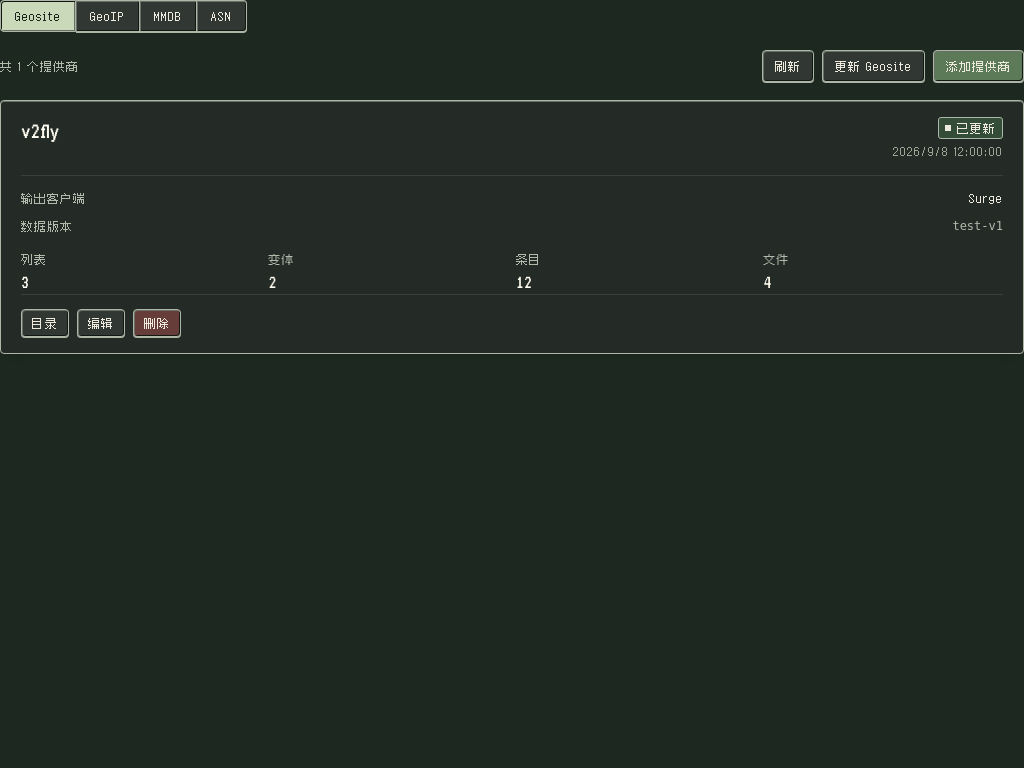
Test: GeoDataView › adds a provider and saves output clients
The image size is (1024, 768).
Click the button "添加提供商". click: (978, 66)
box: [933,50,1023,82]
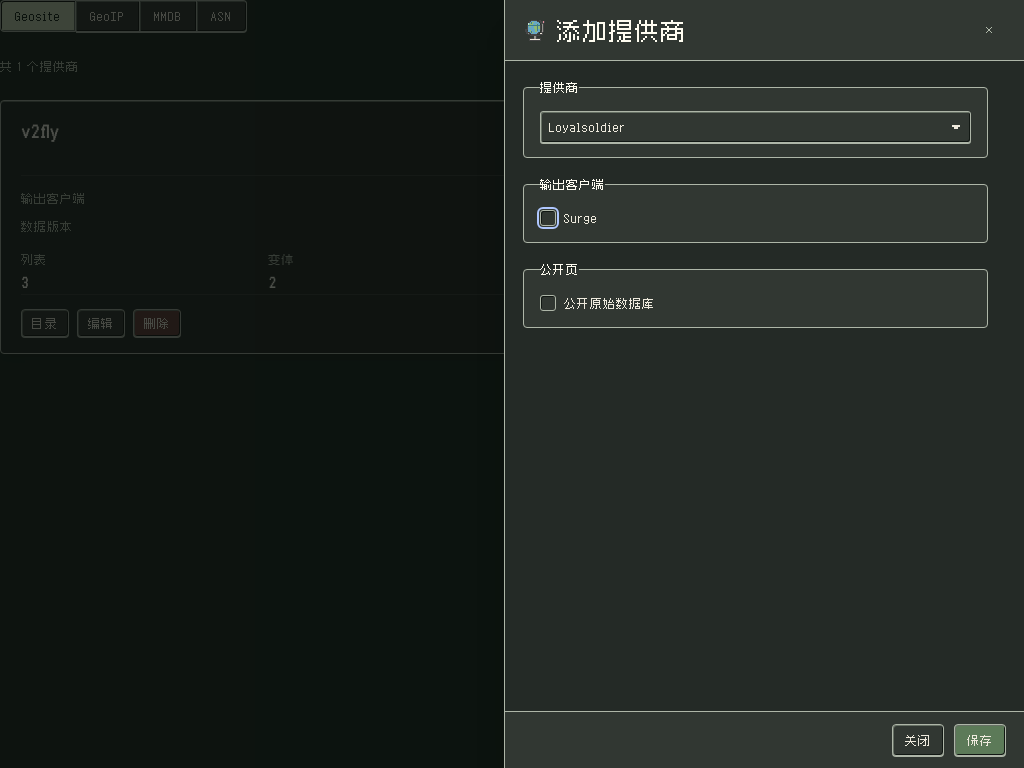
Click the dropdown named "提供商". click: (588, 127)
box: [540,111,971,143]
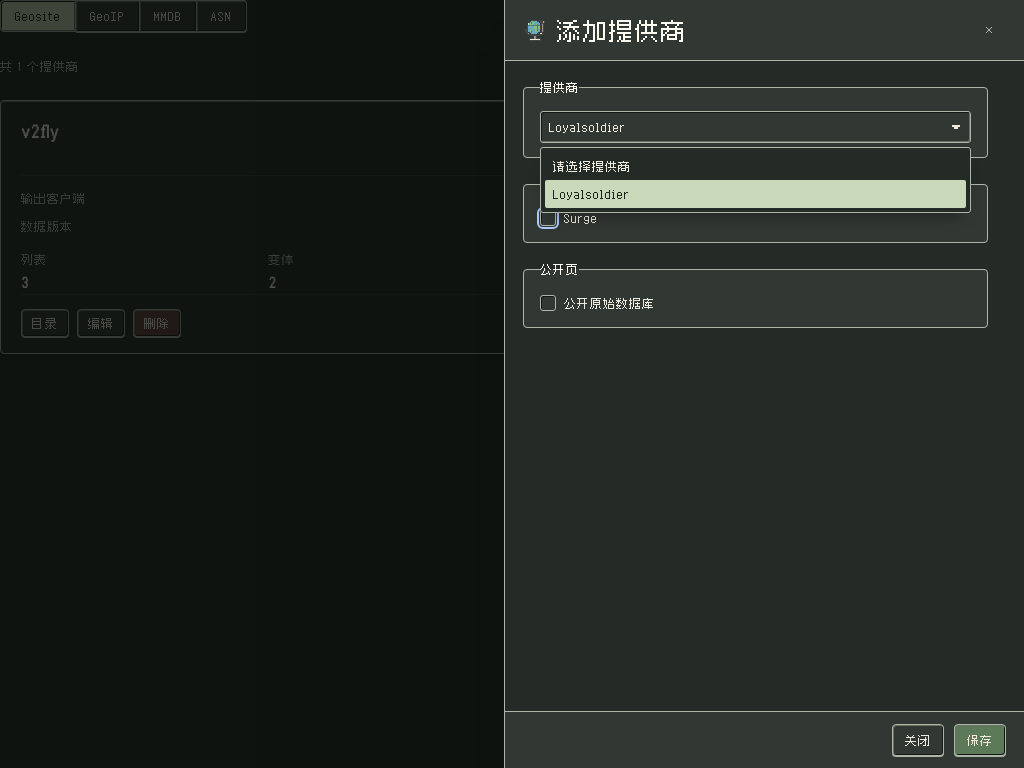
Click the option "Loyalsoldier". click: (592, 194)
box: [545,180,966,208]
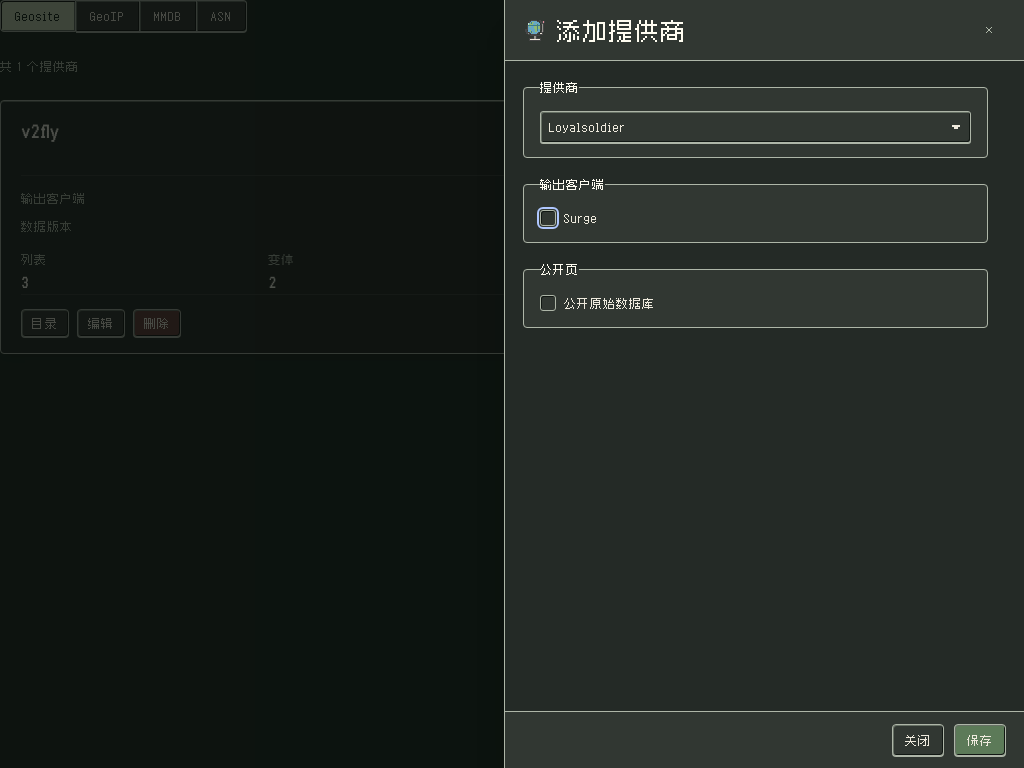
Click the checkbox labelled "Surge". click: (569, 218)
box: [540,208,598,228]
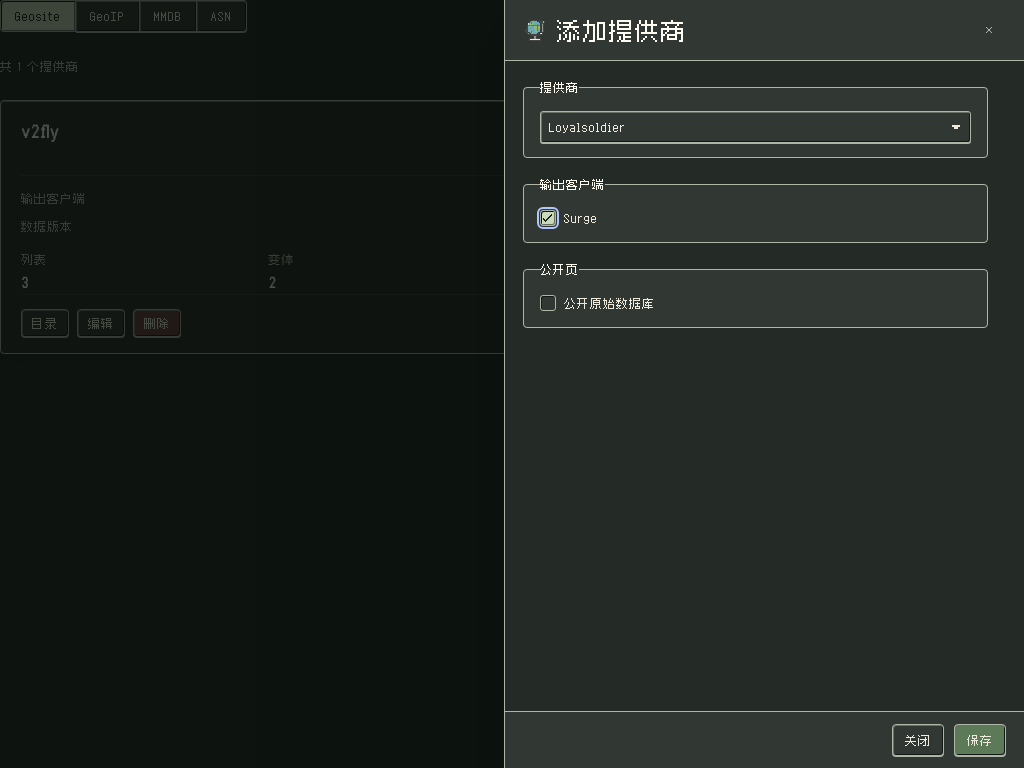
Click the button "保存". click: (980, 740)
box: [954,724,1006,756]
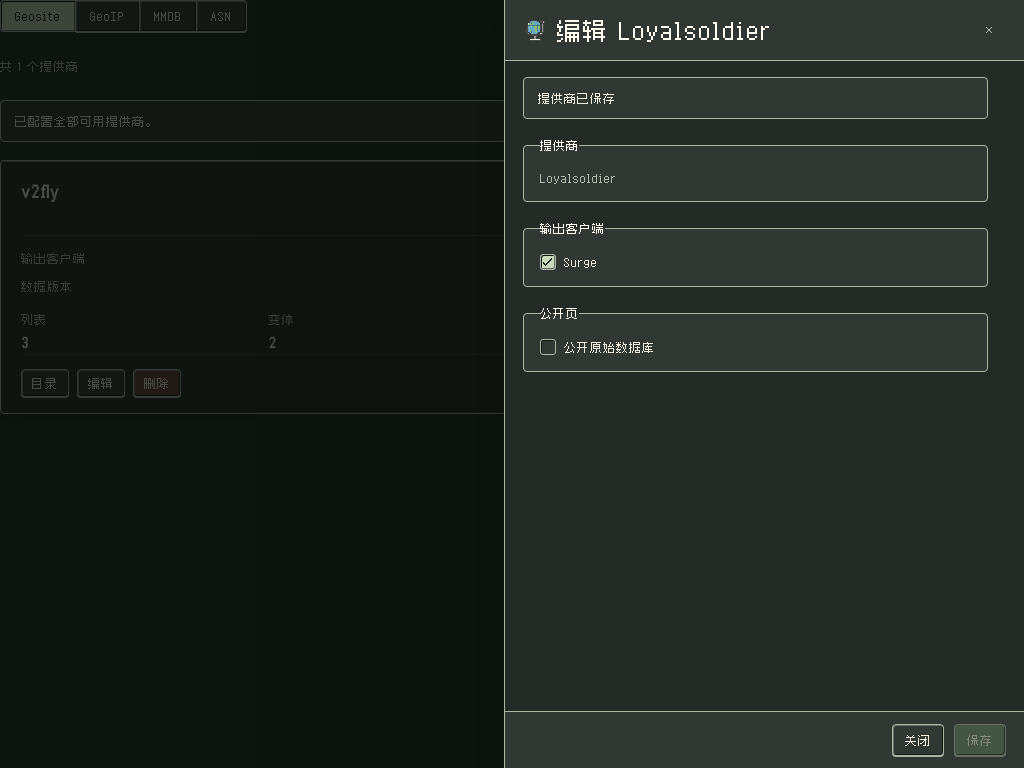
Expected: the text "提供商已保存" is shown, [523,77,988,119]
